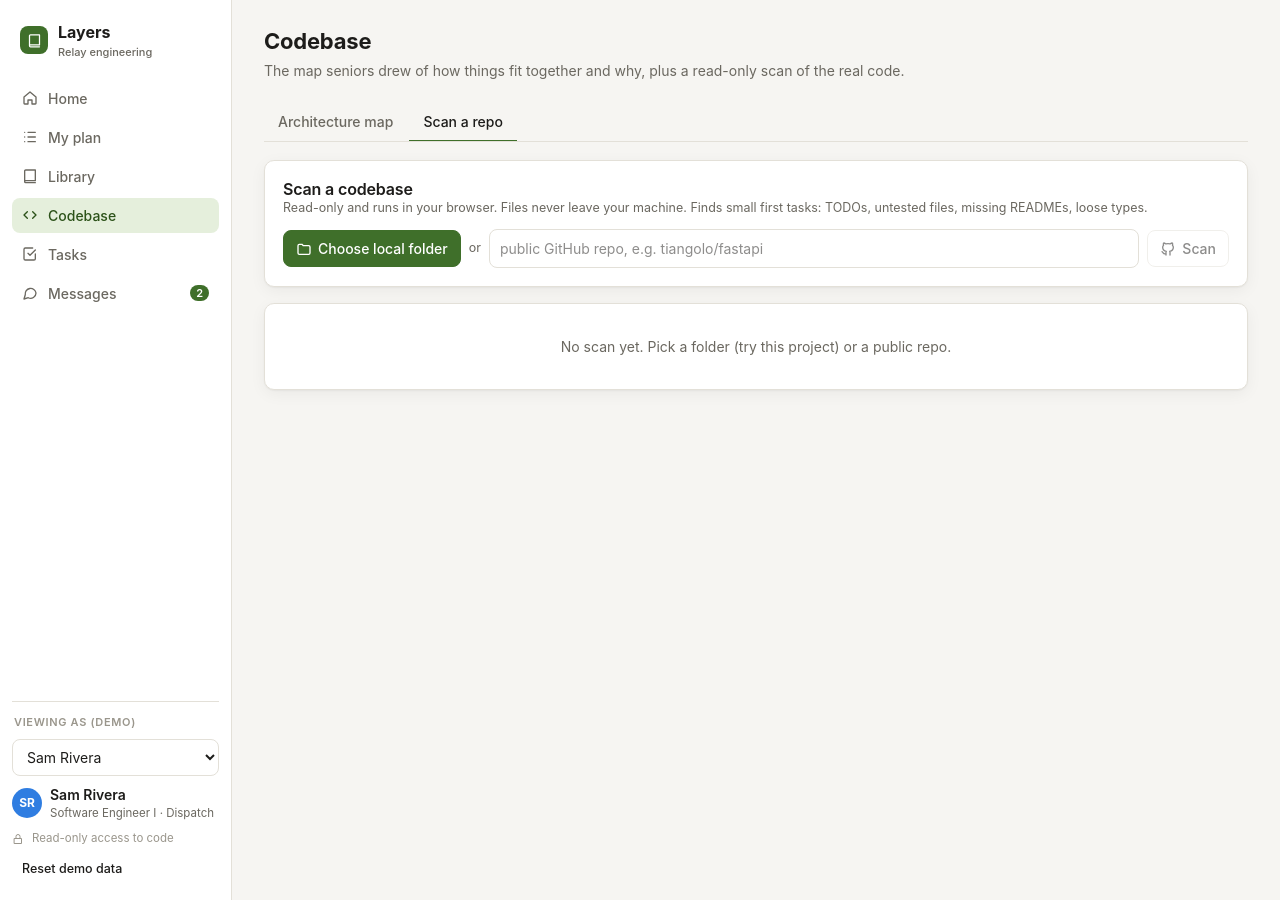
Test: Scanner folders › accepts a www.github.com URL and filters by exact folder
The image size is (1280, 900).
Type "https://www.github.com/acme/app" into the field with placeholder "public GitHub repo, e.g. tiangolo/fastapi".
click(814, 249); type("https://www.github.com/acme/app")  # box left=489, top=229, right=1139, bottom=268
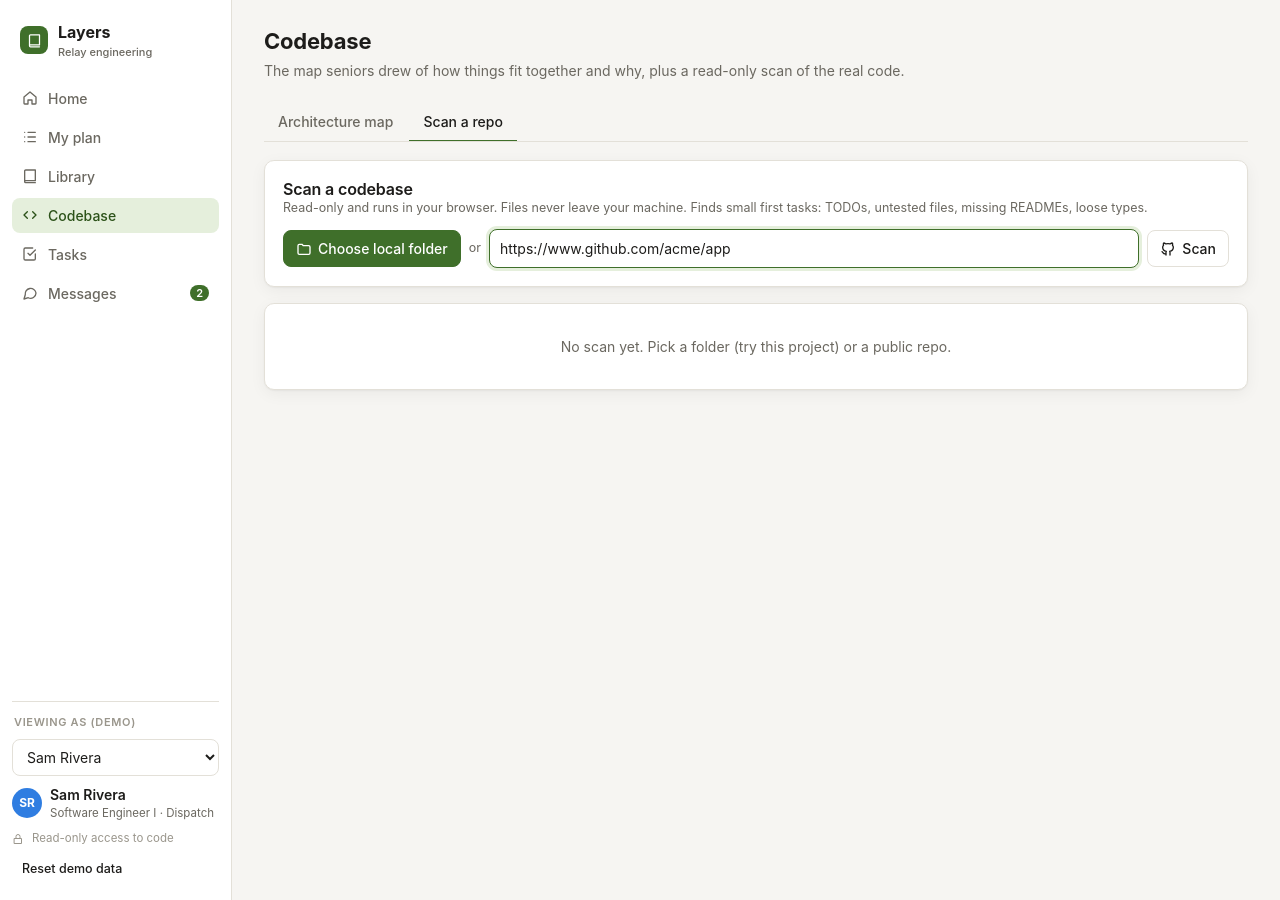
Click the button "Scan".
click(1188, 249)  # box left=1147, top=230, right=1229, bottom=267
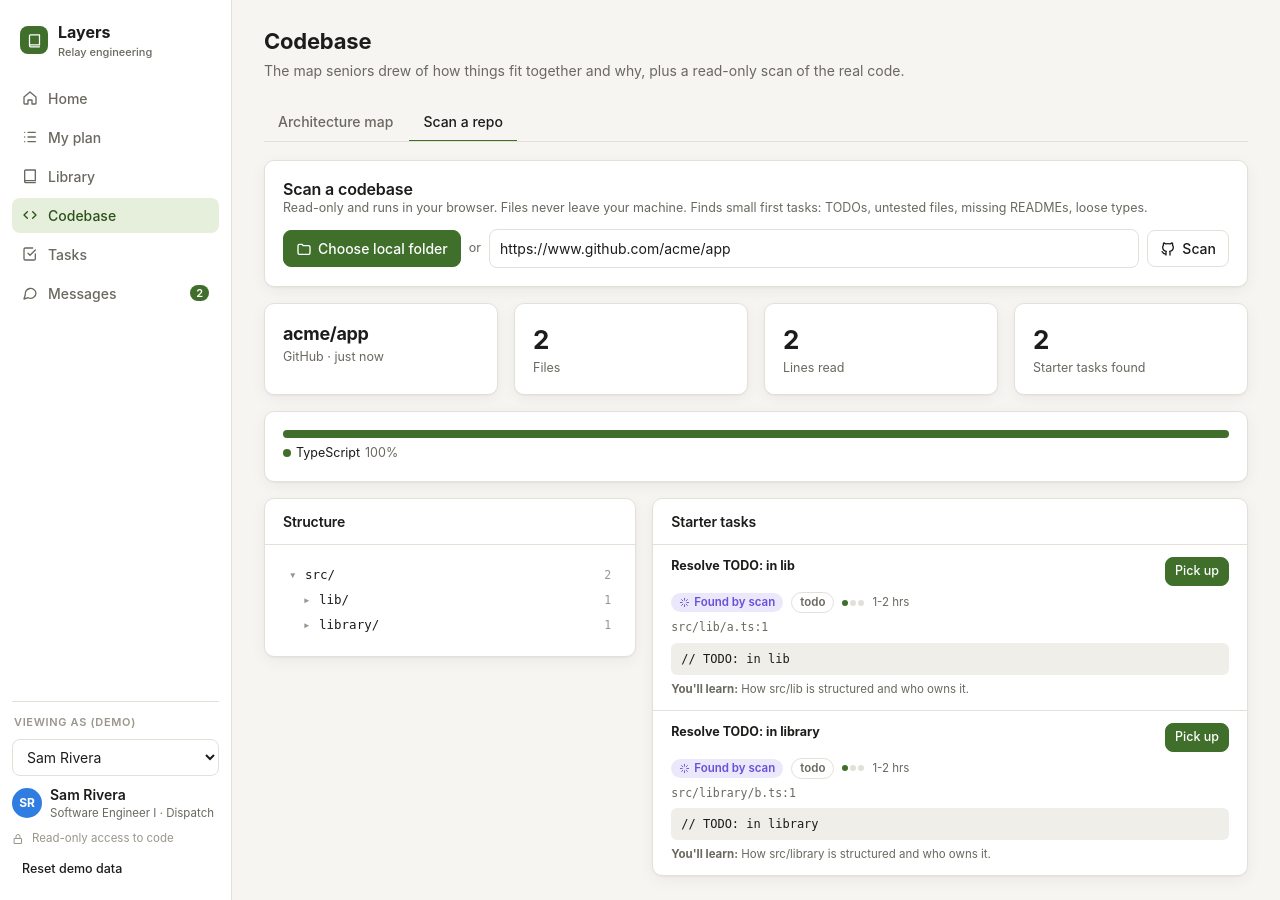
Result: the text "acme/app" is shown at left=283, top=323, right=368, bottom=344
Click the text "lib/".
click(334, 600)  # box left=319, top=592, right=349, bottom=607
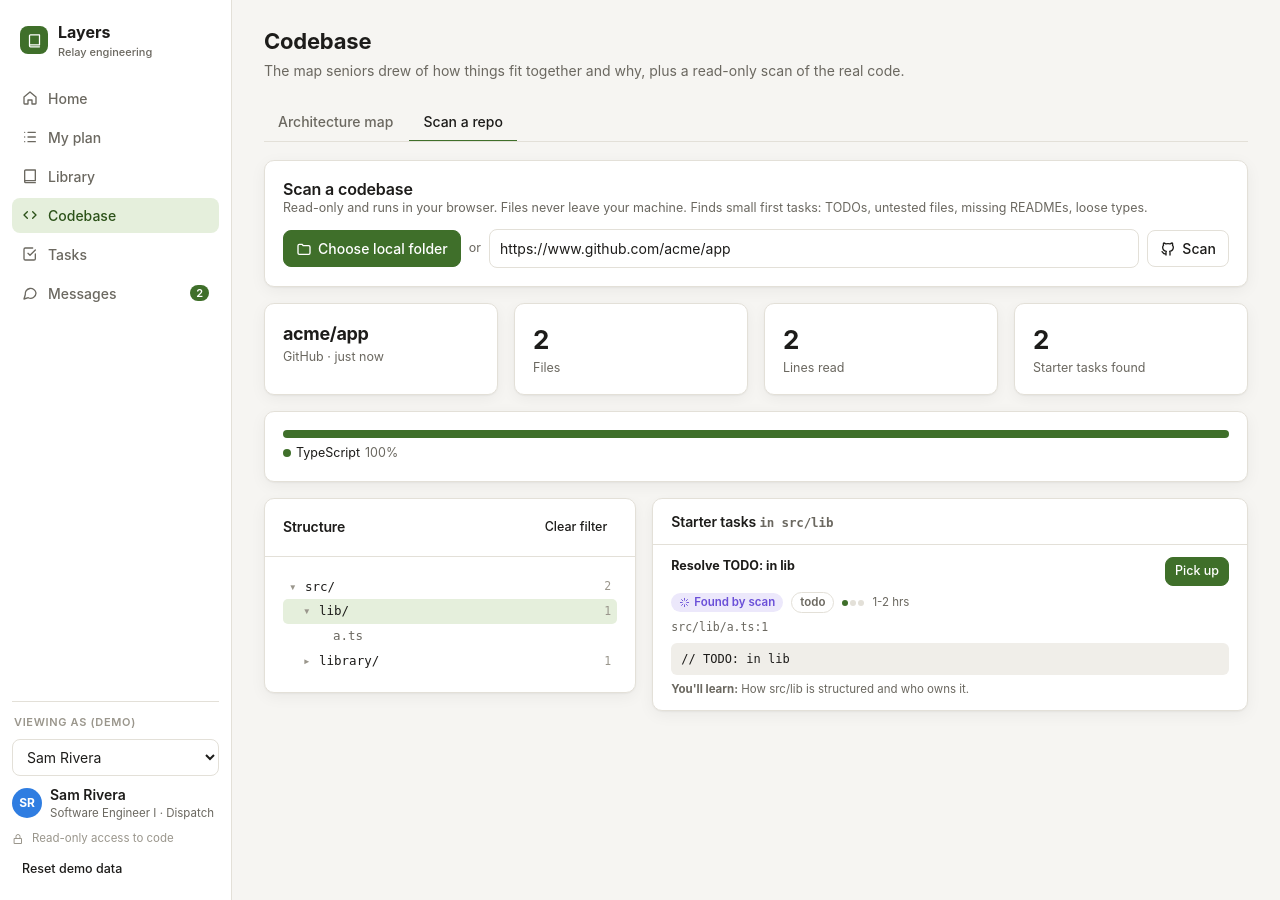
Result: the text "Resolve TODO: in lib" is shown at left=671, top=557, right=795, bottom=576
Result: the text "Resolve TODO: in library" is gone
